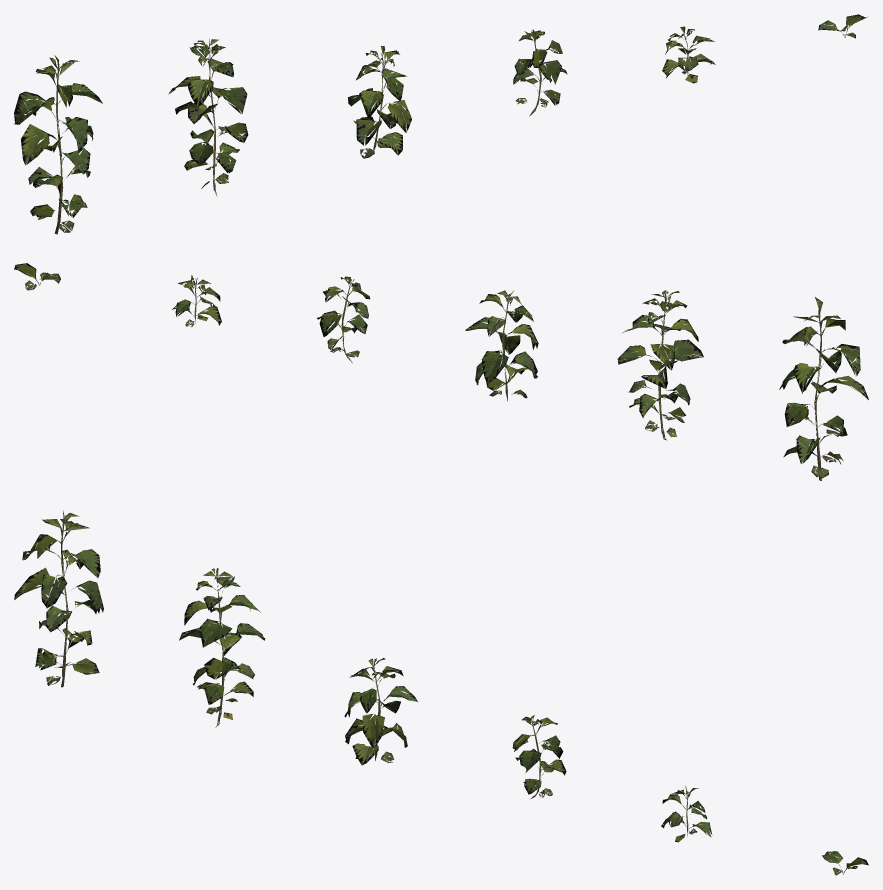
File: nettle_plant.glb
3 views of the same model, one above another, from view 1: azimuth 30°, elevation 25°; view 2: azimuth 150°, elevation 25°; view 3: azimuth 330°, elevation 25° (orthographic).
Parts seen in each view (by area): view 1: nettle_plant_tall_a_LOD0, nettle_plant_tall_b_LOD0, nettle_plant_medium_a_LOD0, nettle_plant_medium_b_LOD0, nettle_plant_small_a_LOD0; view 2: nettle_plant_tall_a_LOD0, nettle_plant_tall_b_LOD0, nettle_plant_medium_a_LOD0, nettle_plant_medium_b_LOD0, nettle_plant_small_a_LOD0, nettle_plant_small_b_LOD0; view 3: nettle_plant_tall_a_LOD0, nettle_plant_tall_b_LOD0, nettle_plant_medium_a_LOD0, nettle_plant_medium_b_LOD0, nettle_plant_small_a_LOD0.
Boxes of the visible parts, bbox=[...] form: nettle_plant_tall_a_LOD0: bbox=[14, 55, 102, 234]; nettle_plant_tall_b_LOD0: bbox=[168, 38, 248, 196]; nettle_plant_medium_a_LOD0: bbox=[347, 46, 411, 158]; nettle_plant_medium_b_LOD0: bbox=[513, 29, 567, 116]; nettle_plant_small_a_LOD0: bbox=[662, 26, 715, 83]; nettle_plant_tall_a_LOD0: bbox=[779, 297, 868, 480]; nettle_plant_tall_b_LOD0: bbox=[617, 290, 703, 440]; nettle_plant_medium_a_LOD0: bbox=[465, 290, 538, 401]; nettle_plant_medium_b_LOD0: bbox=[317, 276, 370, 363]; nettle_plant_small_a_LOD0: bbox=[172, 275, 221, 327]; nettle_plant_small_b_LOD0: bbox=[14, 263, 60, 290]; nettle_plant_tall_a_LOD0: bbox=[14, 510, 103, 687]; nettle_plant_tall_b_LOD0: bbox=[179, 568, 265, 727]; nettle_plant_medium_a_LOD0: bbox=[344, 658, 417, 765]; nettle_plant_medium_b_LOD0: bbox=[512, 715, 566, 798]; nettle_plant_small_a_LOD0: bbox=[661, 786, 711, 842].
Size of the model in its own units: 1.08 by 0.2169 by 0.0964.
Materials: 1 (1 with a texture image).
